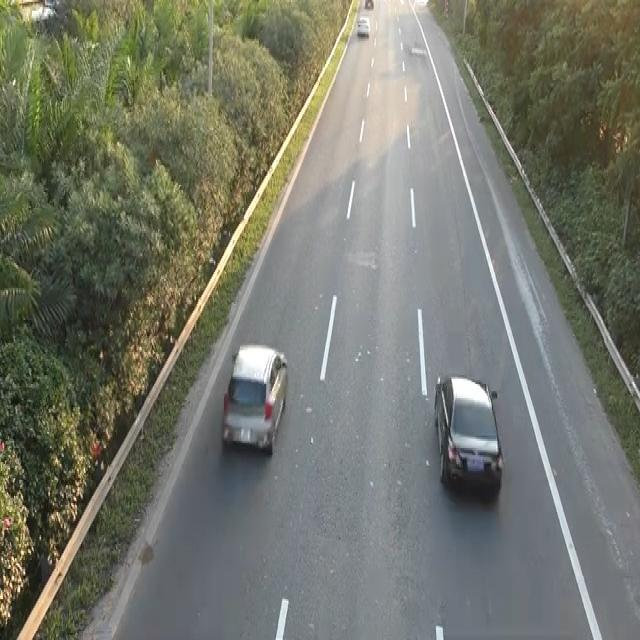bus: (431, 368, 505, 496), (220, 339, 289, 457)
